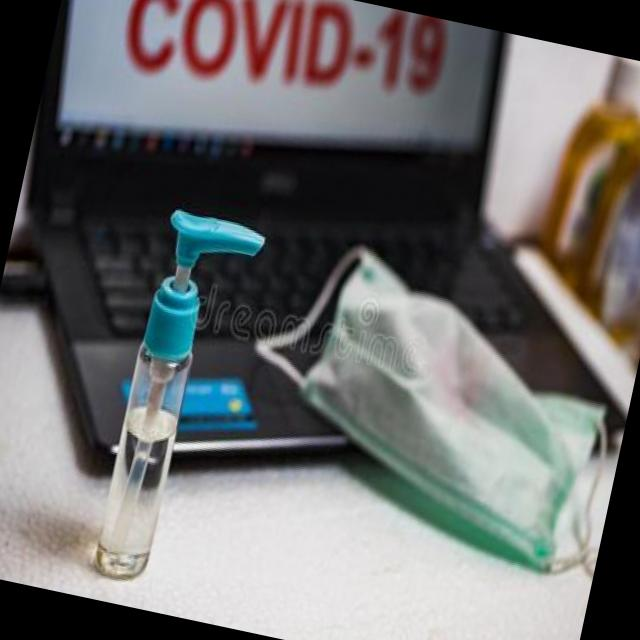sanitizer: (84, 197, 266, 594)
